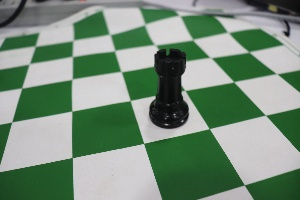black_rook: (136, 32, 197, 133)
